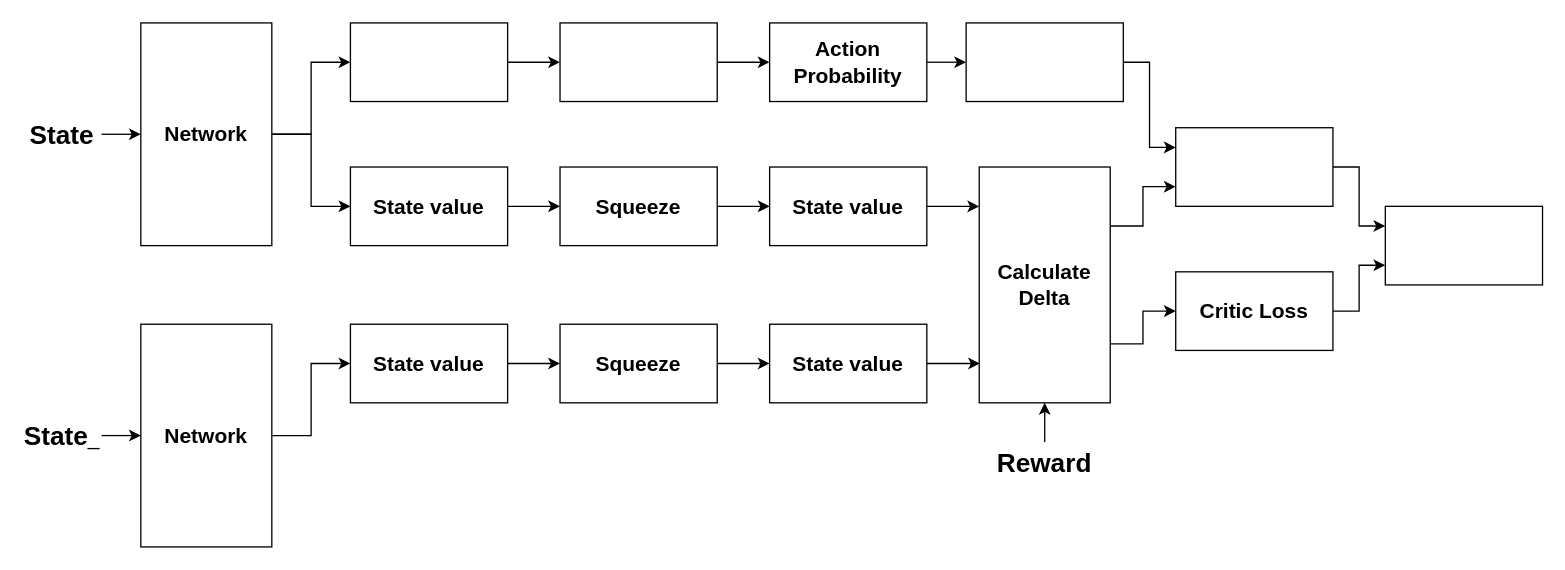
The diagram is 1565 pixels wide and 570 high, and some of its shapes have lost their labels. The centre of each missing label's shape, as x and y in pixels:
"Actor Loss" goes at [1253,166].
"Categorical Distribution" goes at [638,62].
"Log Prob" goes at [1044,62].
"Probability" goes at [428,62].
"Total Loss" goes at [1463,245].
